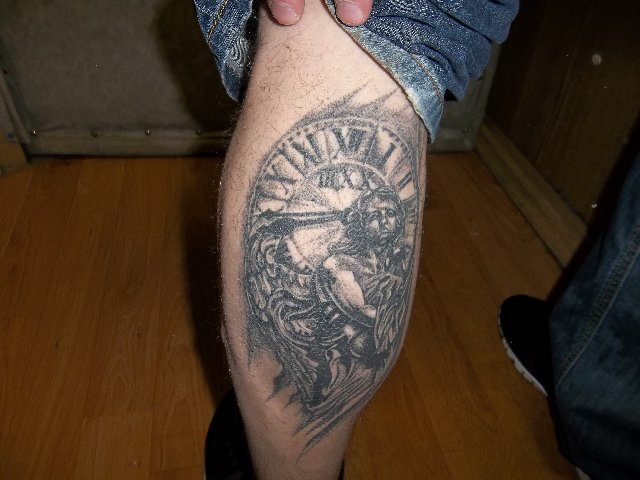tatu2_bogorodica: (245, 128, 420, 402)
